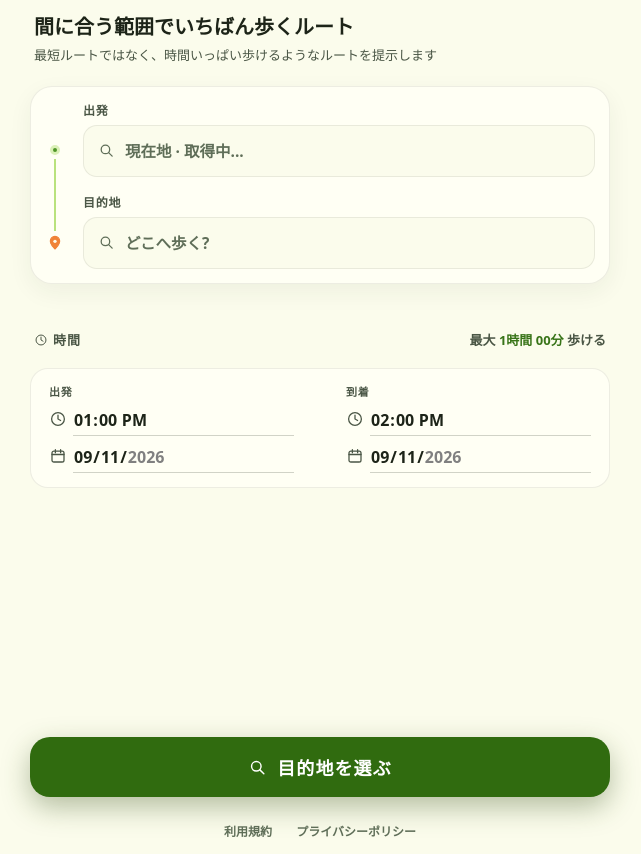
Test case: 時刻フィールド › 入れた時刻が状態と予算の表示へ届く
Replace the text in the time field named "出発の時刻" with "13:30" at (184, 422), box [73, 407, 294, 436]
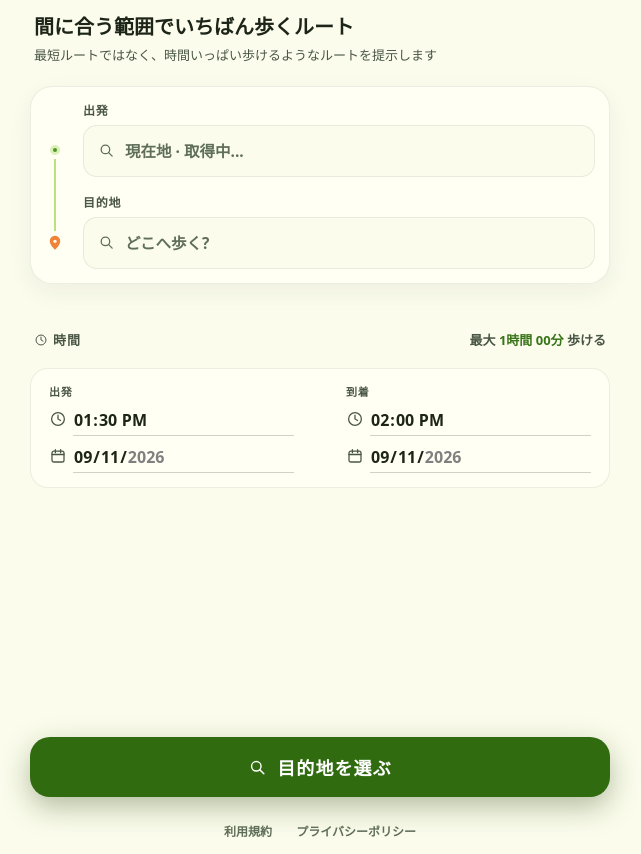
Leave the time field named "出発の時刻", box [73, 407, 294, 436]
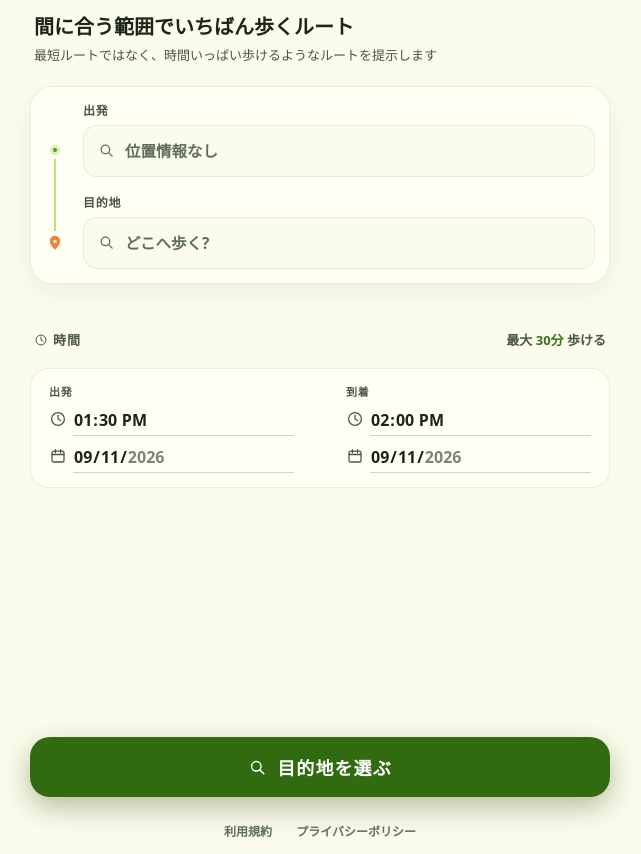
Expected: the text "30分" is shown, [536, 331, 564, 349]
